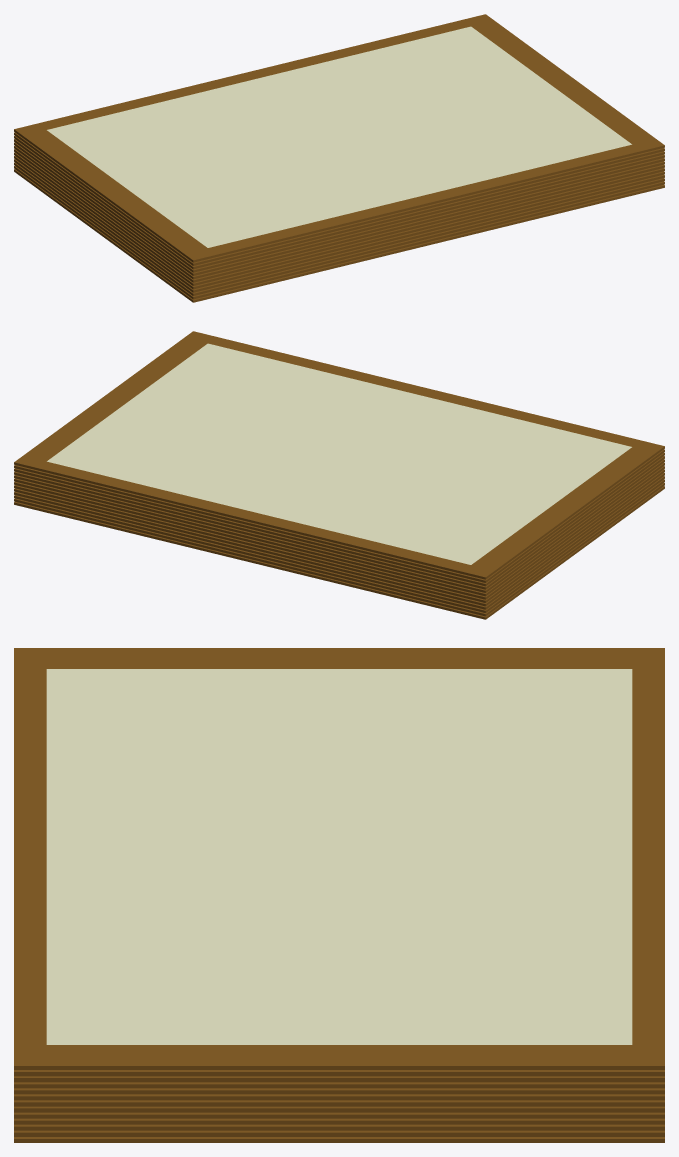
File: Колода карт.fbx
3 views of the same model, one above another, from view 1: azimuth 30°, elevation 25°; view 2: azimuth 150°, elevation 25°; view 3: azimuth 270°, elevation 25° (orthographic). The views are drawn at different scales.
Parts seen in each view (by area): view 1: 1, 2; view 2: 1, 2; view 3: 1, 2.
Part boxes in pixels (<box>): 1: <box>14,14,664,262</box>; 2: <box>14,132,664,302</box>; 1: <box>14,331,664,579</box>; 2: <box>14,449,664,619</box>; 1: <box>14,648,664,1069</box>; 2: <box>14,1070,664,1142</box>.
Size of the model in its own units: 1.59 by 1.04 by 0.1362.
